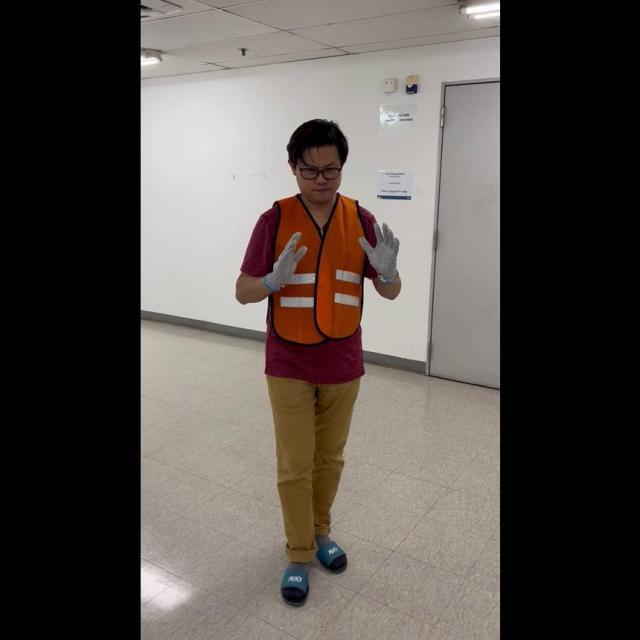gloved_hand: (262, 228, 310, 292), (358, 217, 400, 283)
